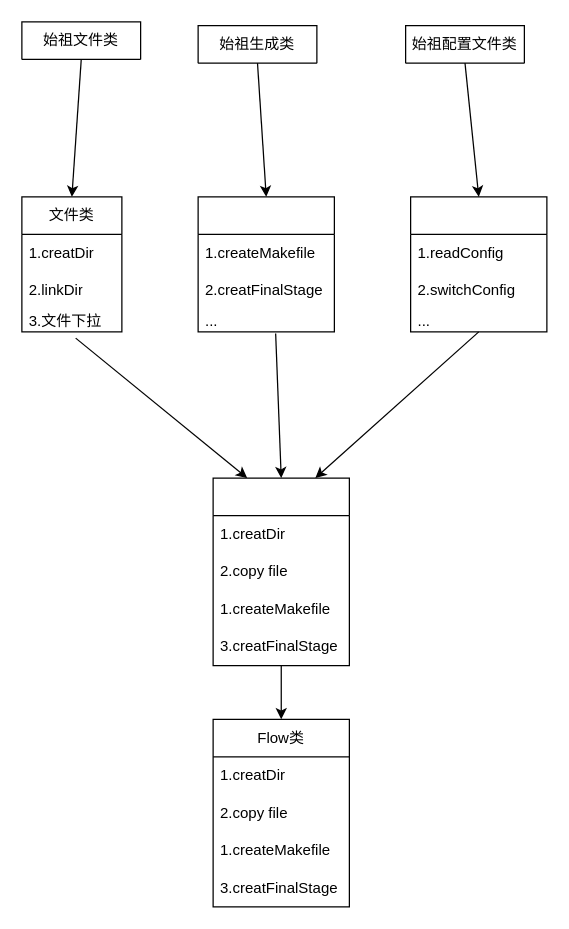
This 569x929 diagram has some shape labels left out. Here are the shapes that lost their labels. From the top down, the box of each, then its label:
(197, 196, 334, 332): 生成类
(409, 196, 547, 332): config类
(212, 477, 349, 666): basicFlow类
